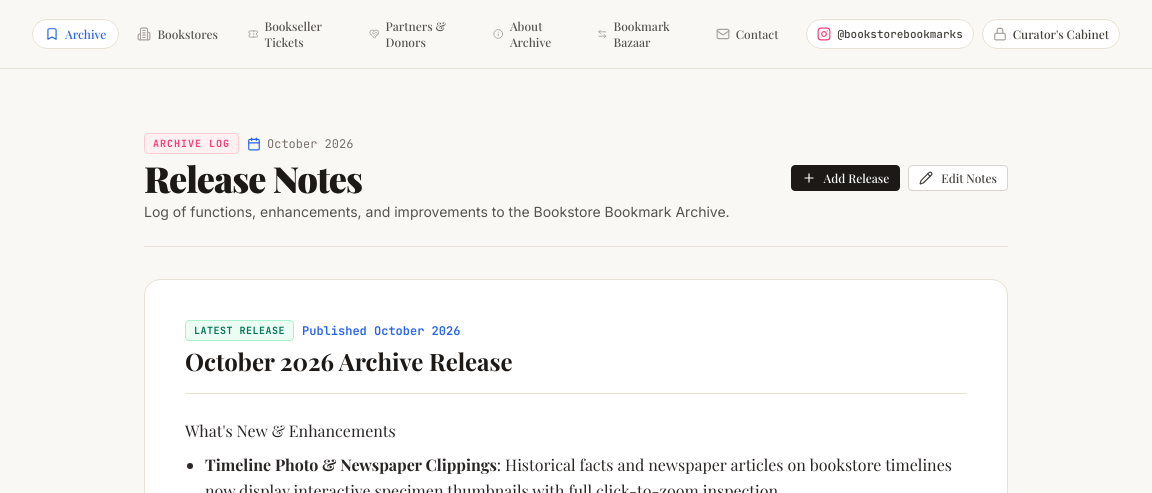
Test: Release Notes Page & Footer Integration › toggles edit mode when Edit Notes button is clicked
Click the button "Edit Notes".
click(958, 178)  # box [908,164,1008,190]
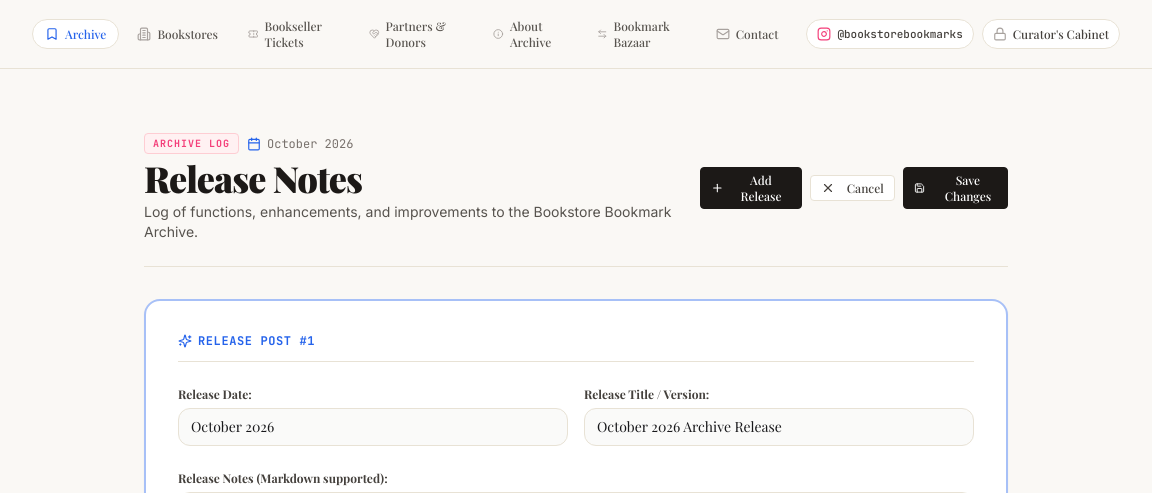
Result: the field with placeholder "e.g. October 2026" below "Release Date:" is shown at [178,408,568,446]
Result: the field with placeholder "e.g. Autumn 2026 Collection Release" below "Release Title / Version:" is shown at [584,408,974,446]
Result: the button "Save Changes" is shown at [903,166,1008,208]
